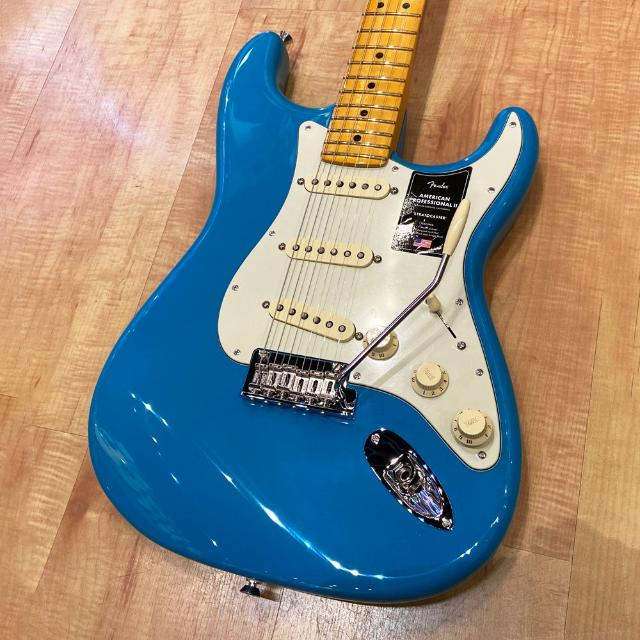Electric-Guitar: (91, 1, 542, 606)
